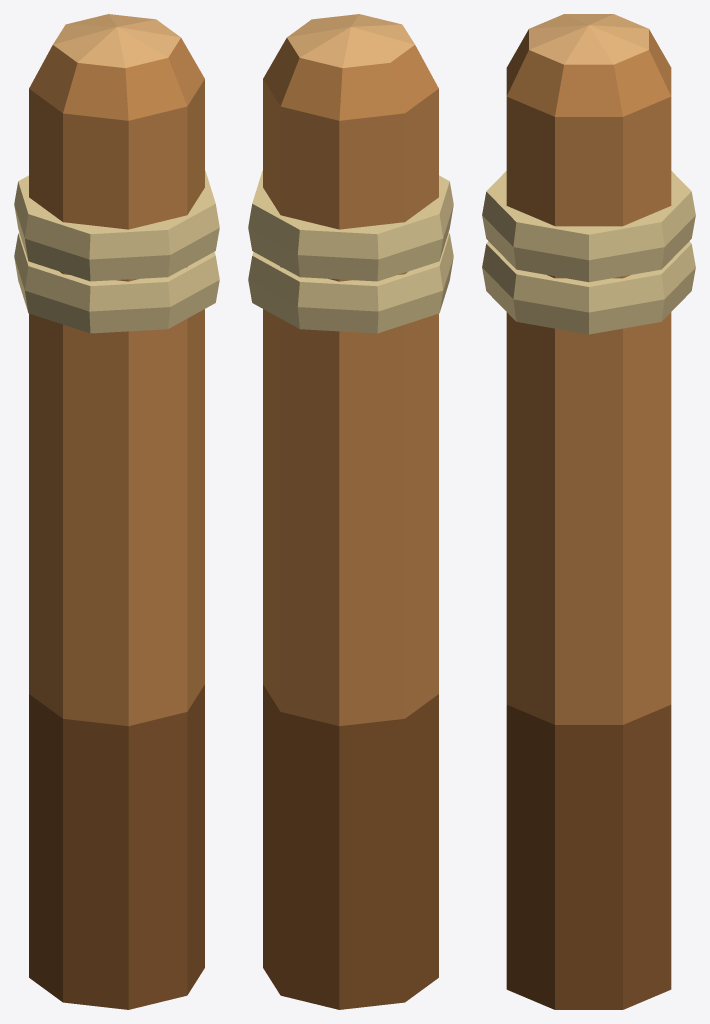
Rendered from dock_post.fbx.
3 renders of one model, left to right at view 1: azimuth 30°, elevation 25°; view 2: azimuth 150°, elevation 25°; view 3: azimuth 270°, elevation 25°, orthographic.
Parts seen in each view (by area): view 1: dock_post; view 2: dock_post; view 3: dock_post.
Boxes of the visible parts, x1,y1,x2,y2 form: dock_post: (14, 14, 219, 1009); dock_post: (248, 14, 453, 1009); dock_post: (482, 14, 695, 1009).
Bounding box in the file's own units: 204 × 1000 × 204.
Materials: 1 (1 with a texture image).
